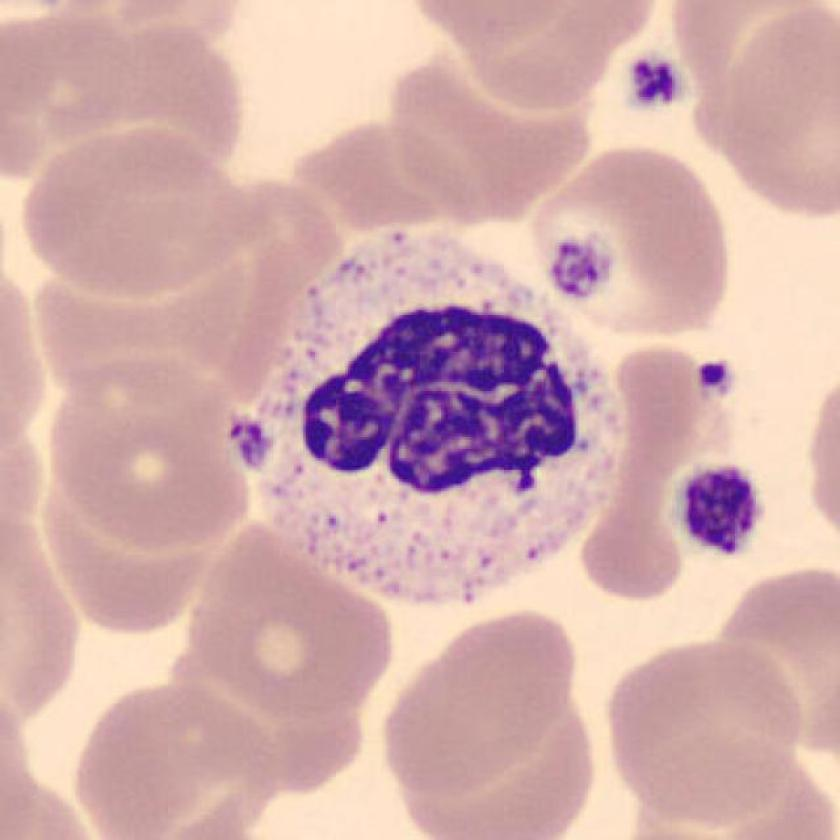neutrophil: (242, 239, 622, 604)
